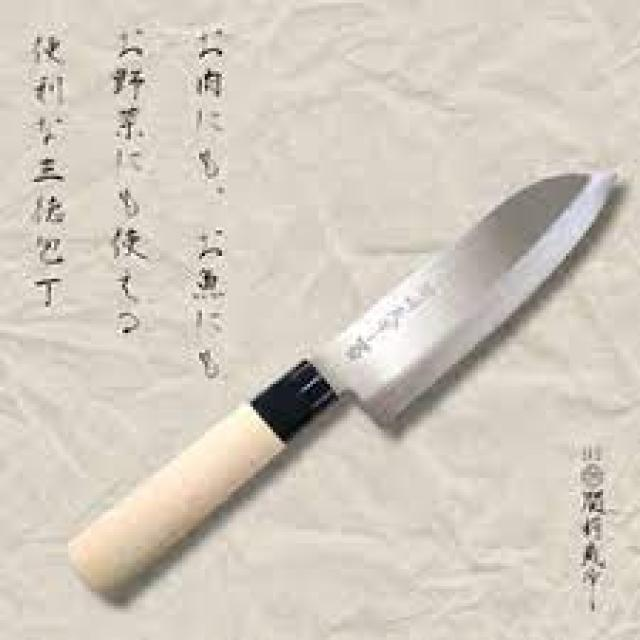Pisau: (50, 147, 640, 629)
